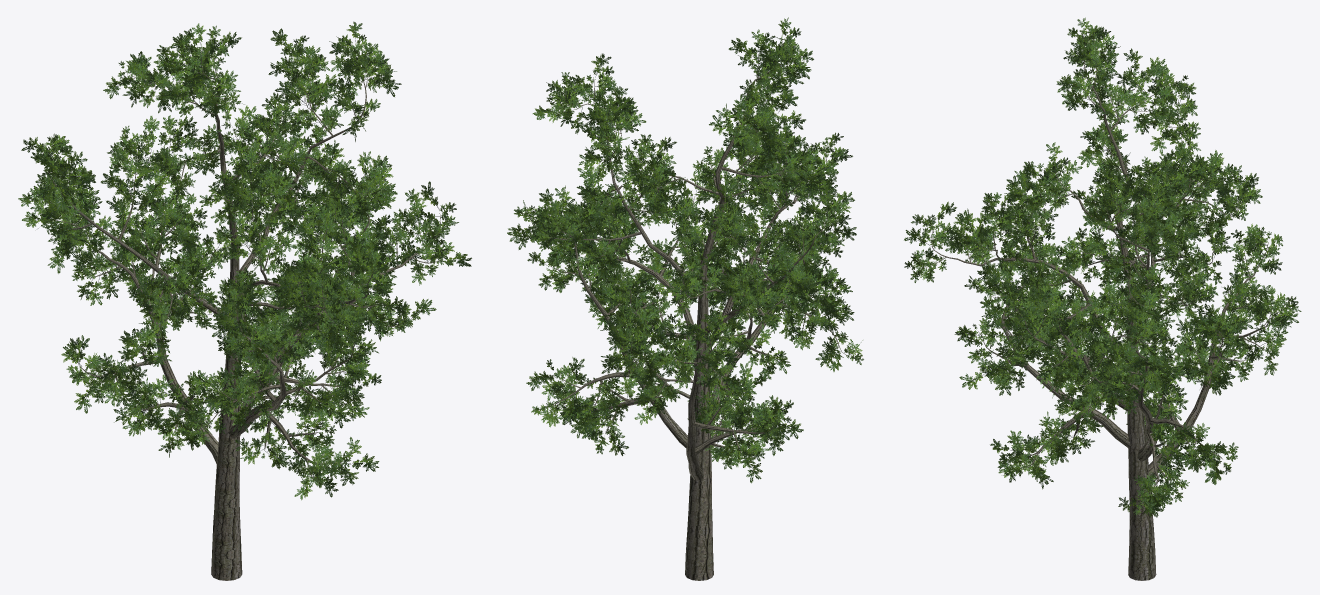
File: tree(2).glb
3 renders of one model, left to right at view 1: azimuth 30°, elevation 25°; view 2: azimuth 150°, elevation 25°; view 3: azimuth 270°, elevation 25°, orthographic. The views are drawn at different scales.
Parts seen in each view (by area): view 1: Tree; view 2: Tree; view 3: Tree.
Boxes of the visible parts, x1,y1,x2,y2 form: Tree: [18, 21, 471, 580]; Tree: [507, 17, 863, 580]; Tree: [904, 17, 1301, 580].
Size of the model in its own units: 60.76 by 83.69 by 58.
Materials: 2 (2 with a texture image).
